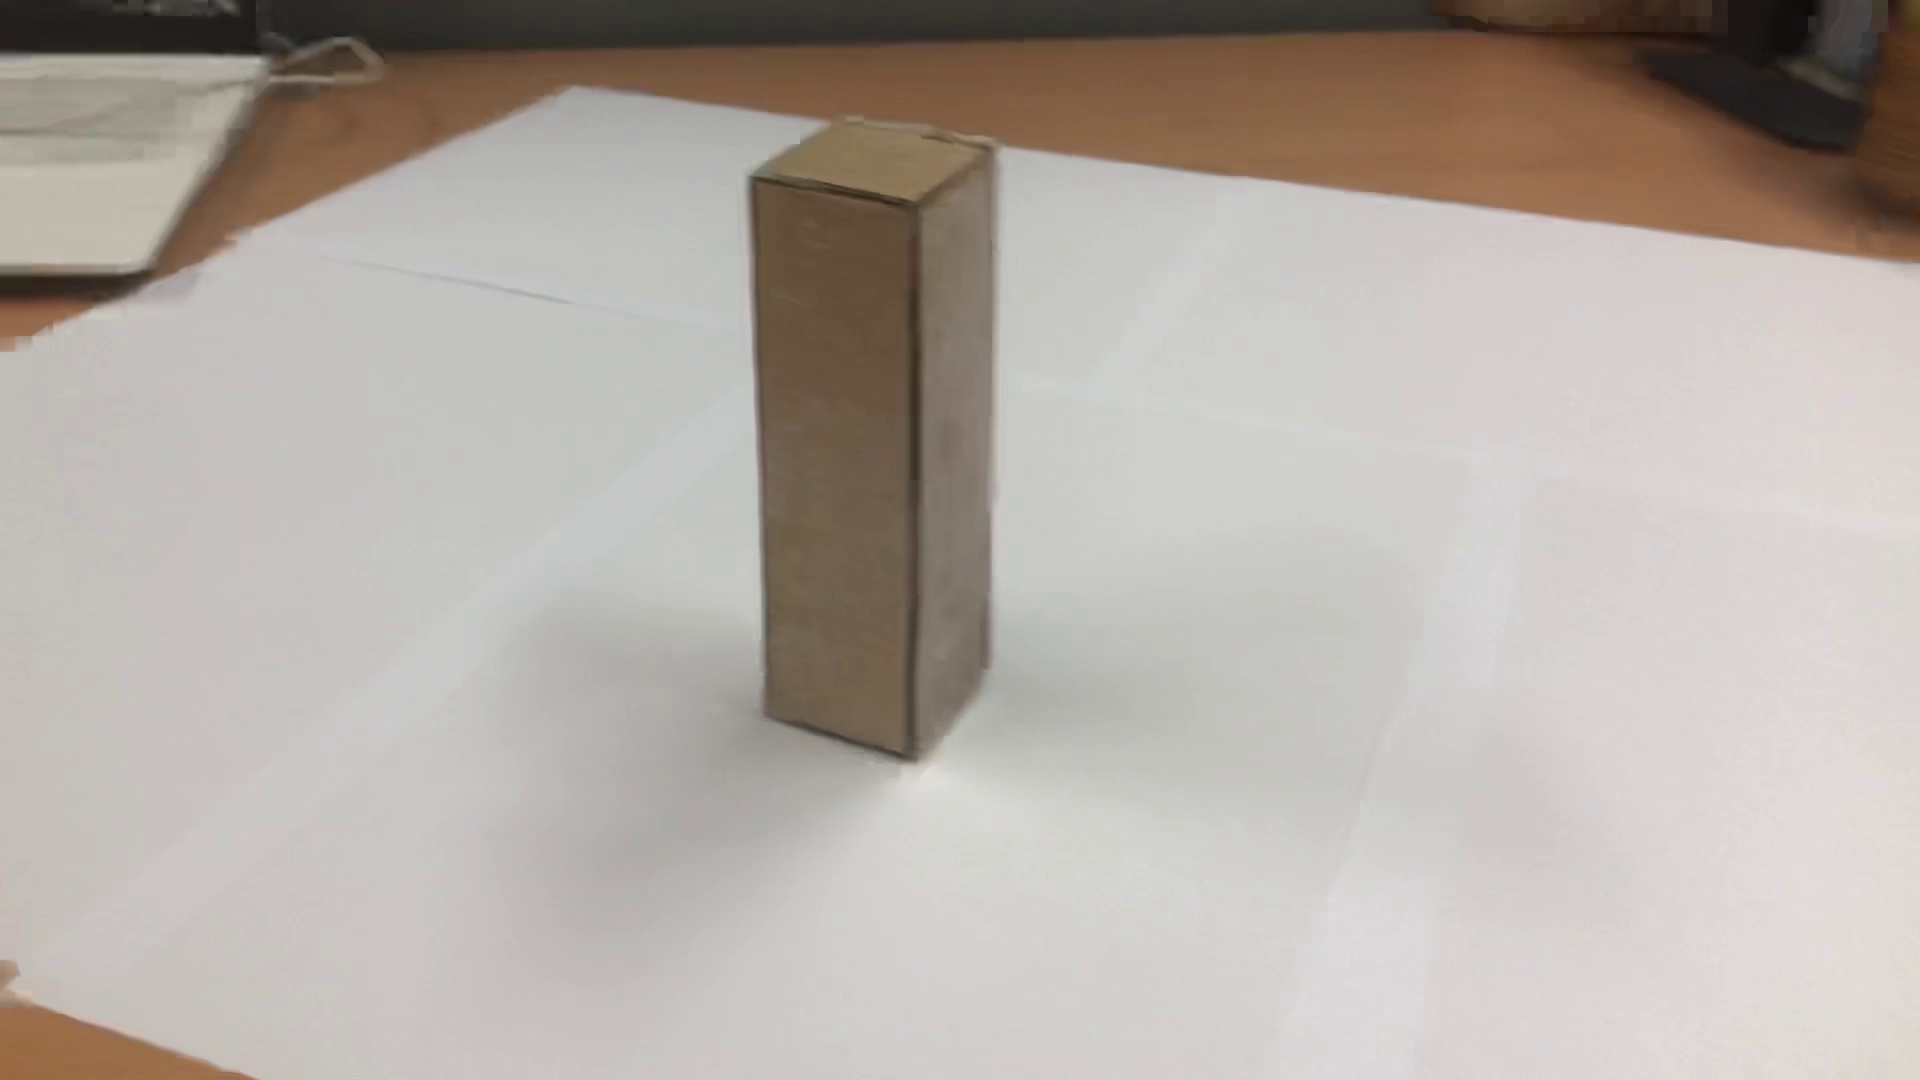box: (713, 94, 1013, 827)
